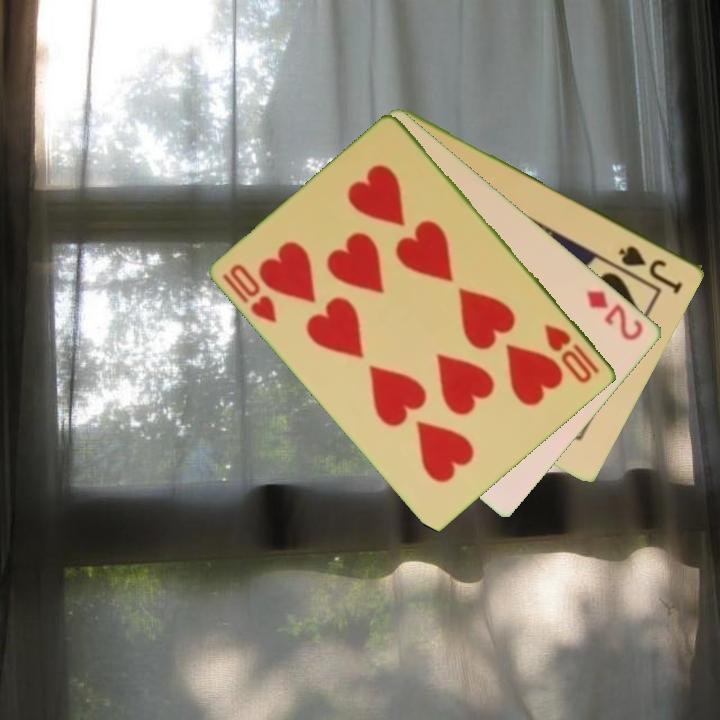10h: (541, 320, 603, 387), (219, 260, 281, 327)
2d: (583, 286, 647, 344)
Js: (615, 242, 686, 295)
